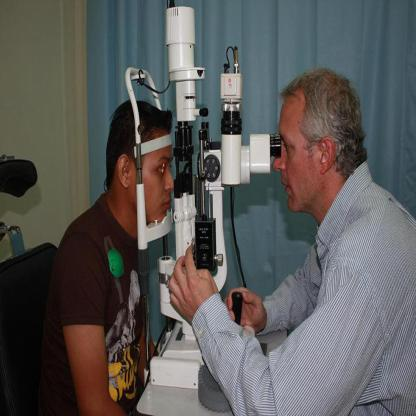face: (273, 120, 317, 216), (139, 139, 175, 223)
